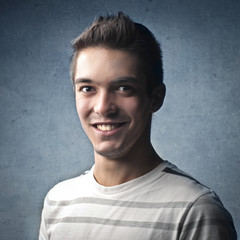teen: (68, 25, 164, 175)
